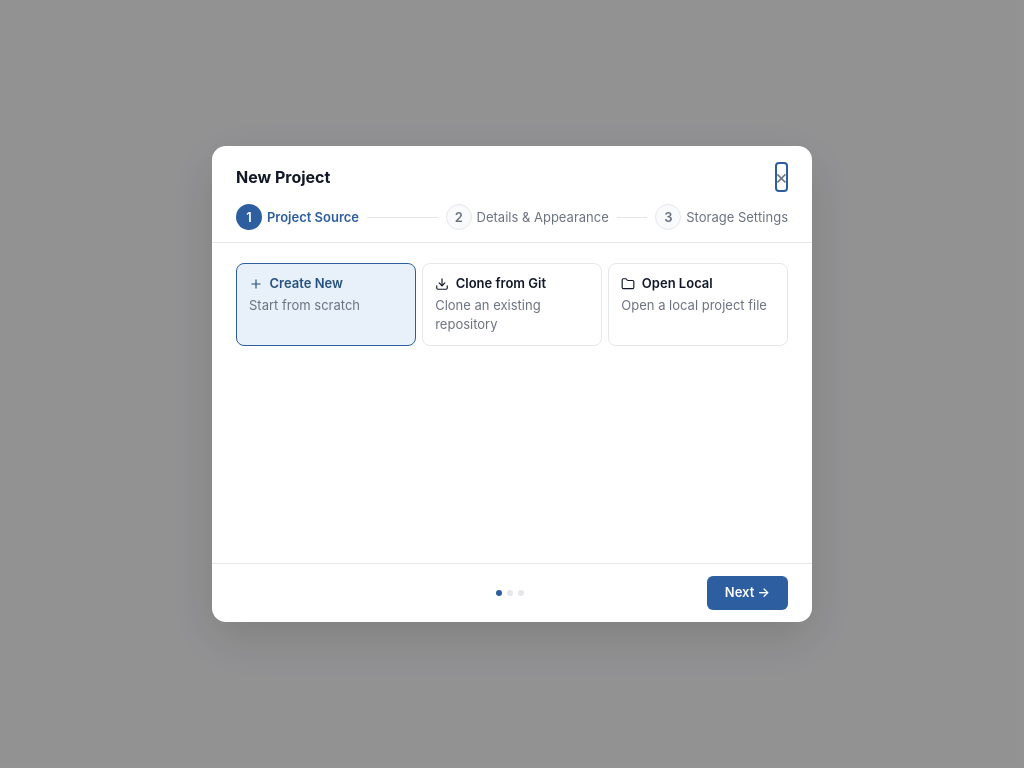
Scenario: New project: a failed import is reported, not hidden (APP-2) › says nothing when the import actually succeeded
This screenshot has width=1024, height=768.
Click the text "Open Local" at (677, 284), box top-left (642, 274), bottom-right (713, 294)
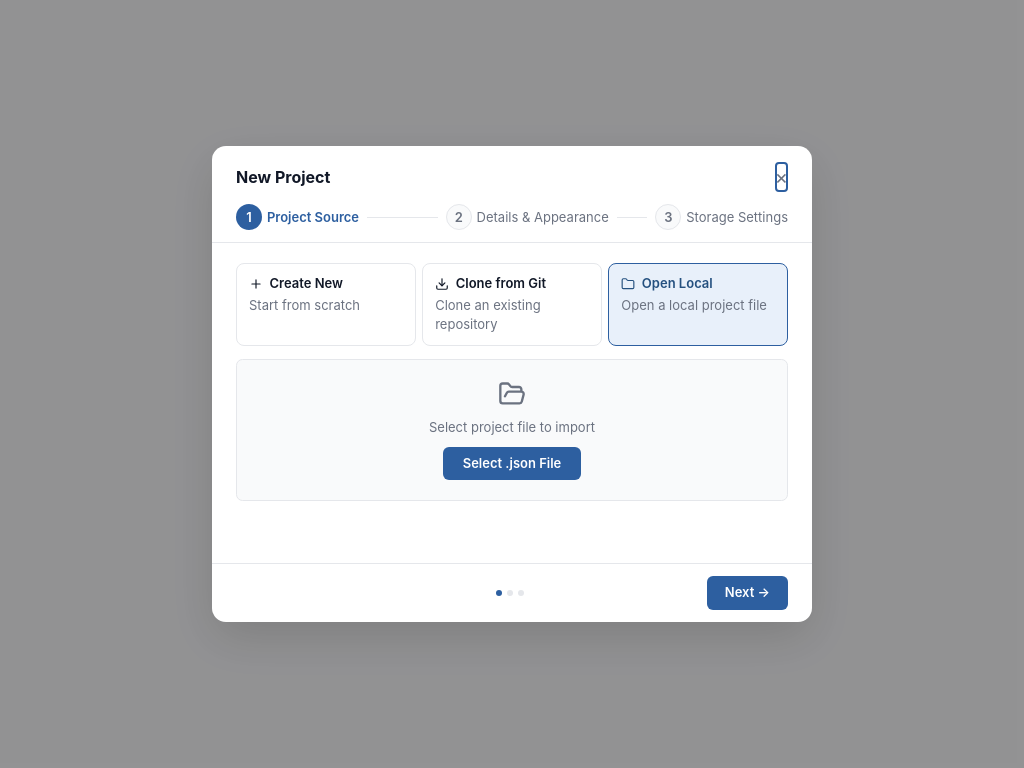
Click the button "Next →" at (747, 593), box top-left (707, 576), bottom-right (788, 610)
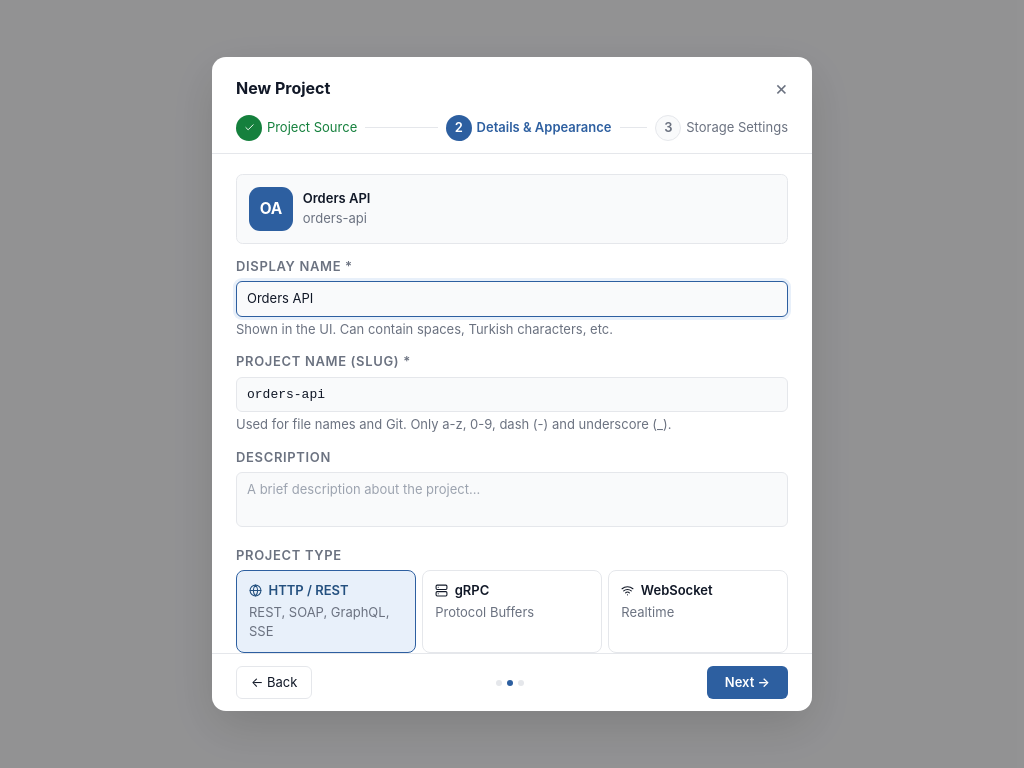
Click the button "Next →" at (747, 683), box top-left (707, 666), bottom-right (788, 699)
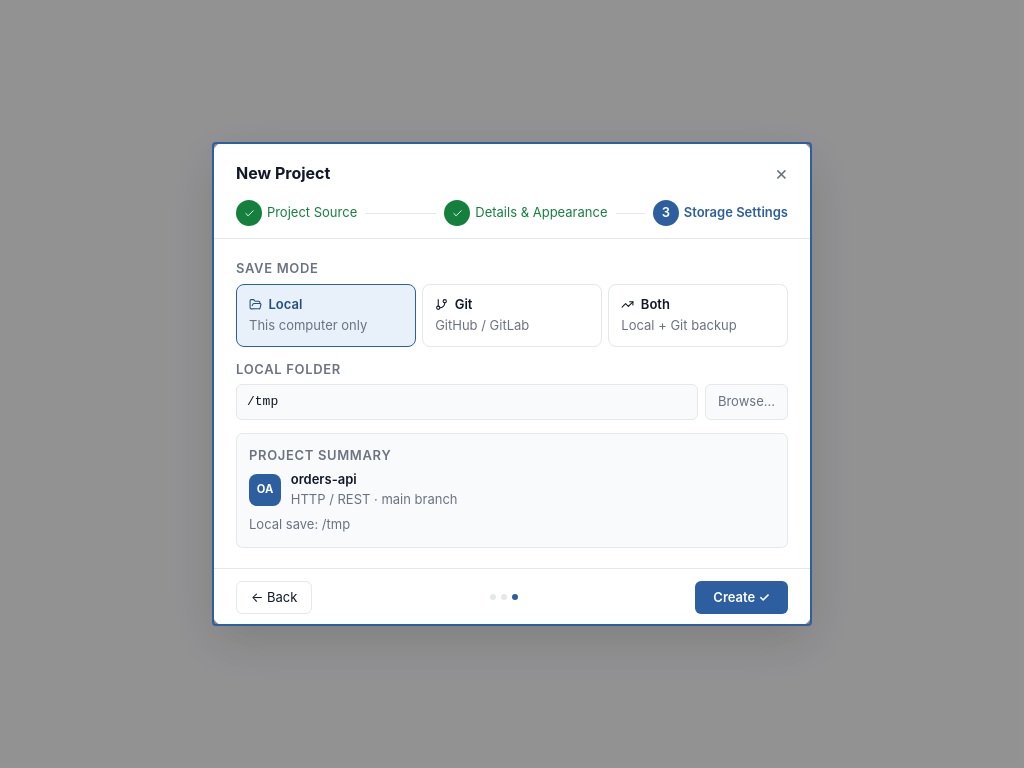
Click the button "Create ✓" at (742, 597), box top-left (695, 580), bottom-right (788, 614)
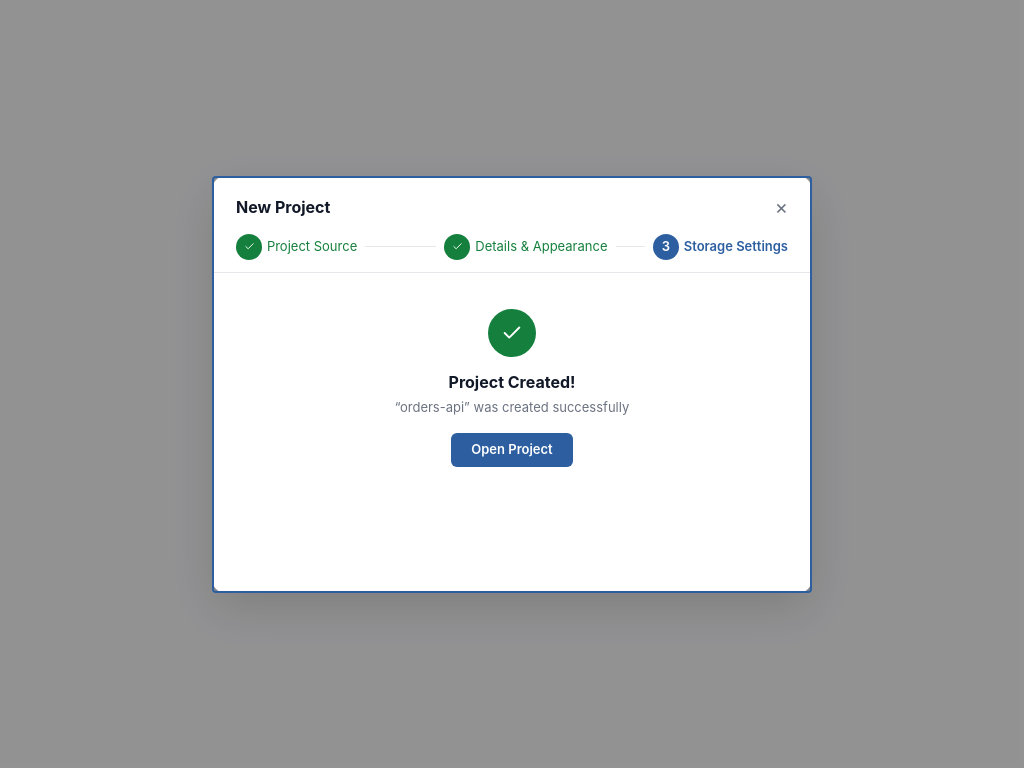
Now the text "Project Created!" is shown, box top-left (448, 372), bottom-right (575, 392)
